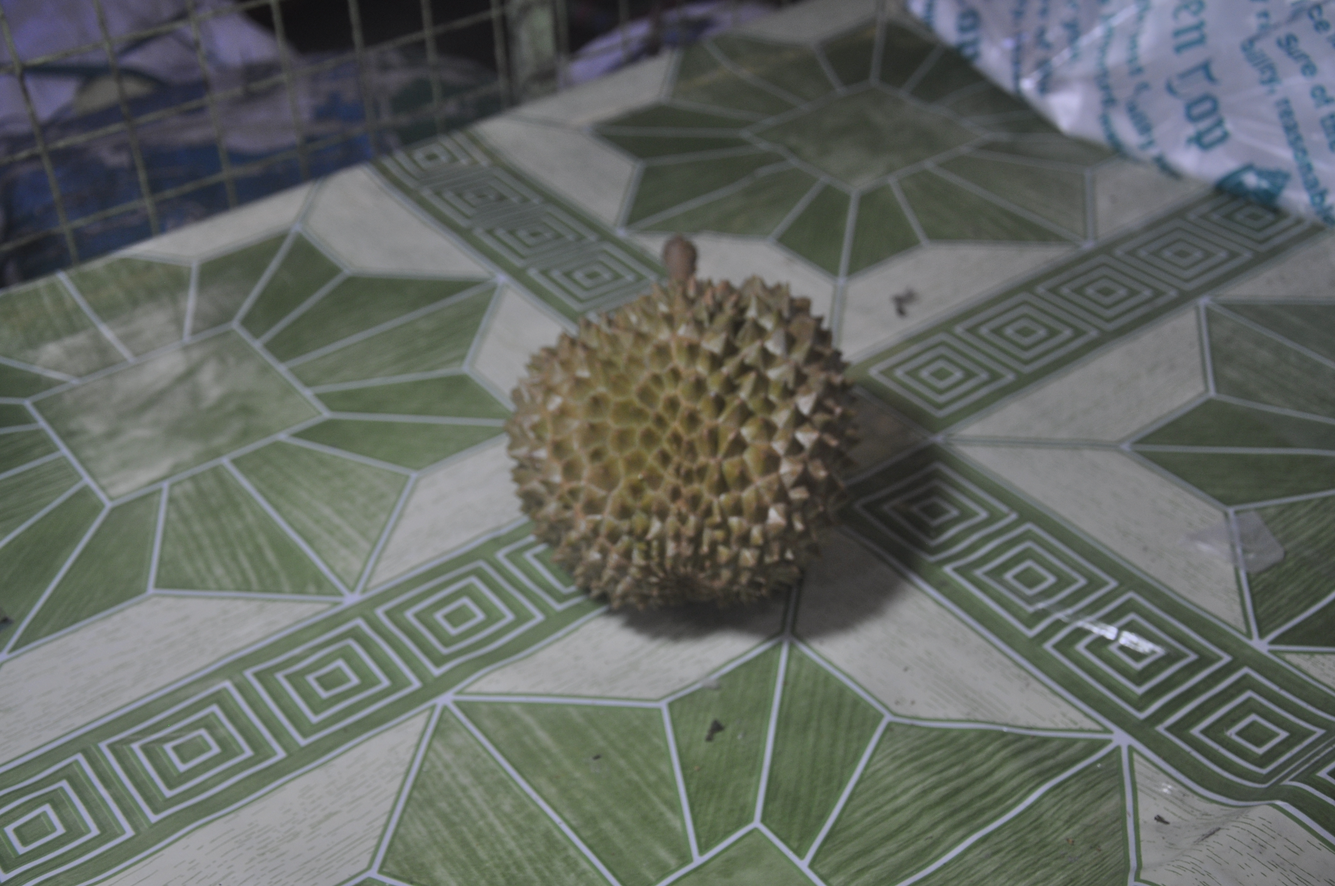mature: (486, 218, 885, 639)
